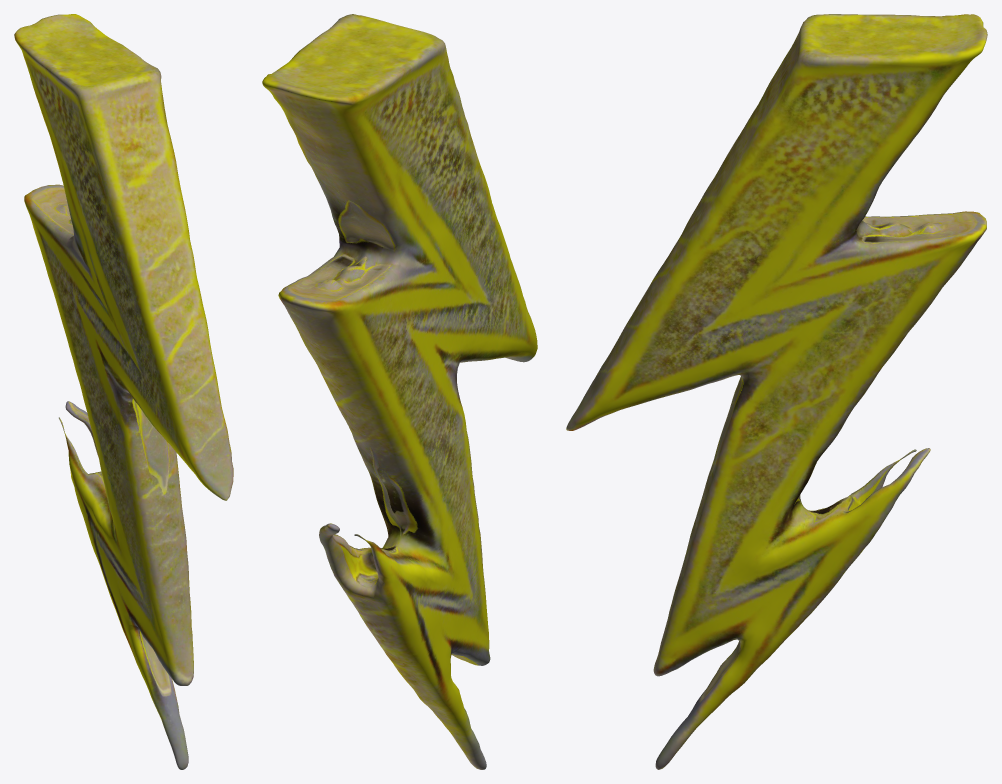
Rendered from b76b7af814e7_LIGHTNING_BOLT_COLL.fbx.
The picture shows the model from 3 angles, left to right: view 1: azimuth 30°, elevation 25°; view 2: azimuth 150°, elevation 25°; view 3: azimuth 270°, elevation 25°; orthographic projection. The views are drawn at different scales.
Visible parts, largest first — view 1: mesh; view 2: mesh; view 3: mesh.
Boxes of the visible parts, bbox=[...] form: mesh: bbox=[14, 14, 233, 769]; mesh: bbox=[262, 14, 537, 769]; mesh: bbox=[566, 14, 987, 769].
Size of the model in its own units: 13.53 by 99.71 by 51.33.
